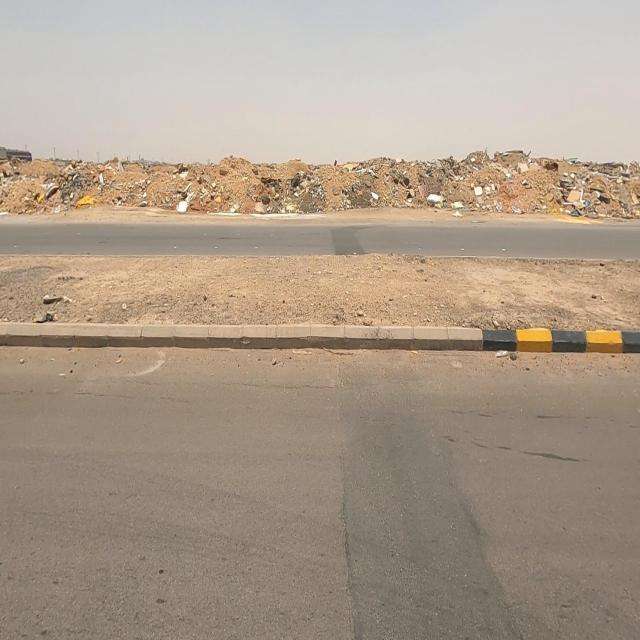debris: (17, 142, 96, 257), (452, 155, 518, 235), (338, 154, 404, 231), (265, 149, 331, 223), (573, 143, 628, 229), (118, 152, 170, 230), (546, 162, 600, 237), (54, 168, 110, 240), (242, 146, 292, 226), (410, 154, 456, 236), (177, 149, 233, 216), (33, 146, 92, 208), (158, 167, 208, 240), (502, 142, 538, 204), (438, 179, 476, 237), (79, 159, 118, 198)
